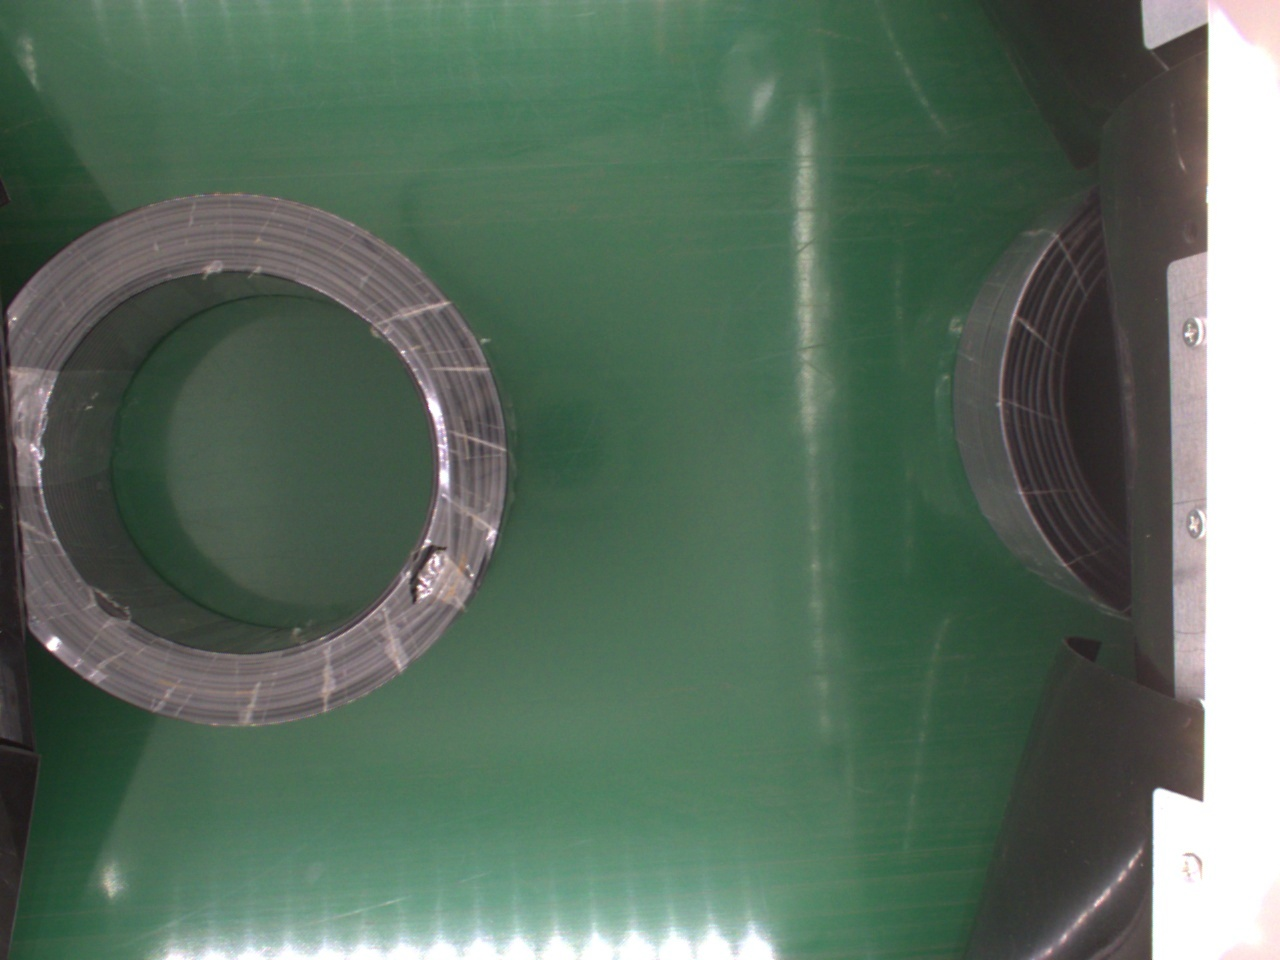black: (26, 190, 509, 726), (953, 179, 1145, 621)
